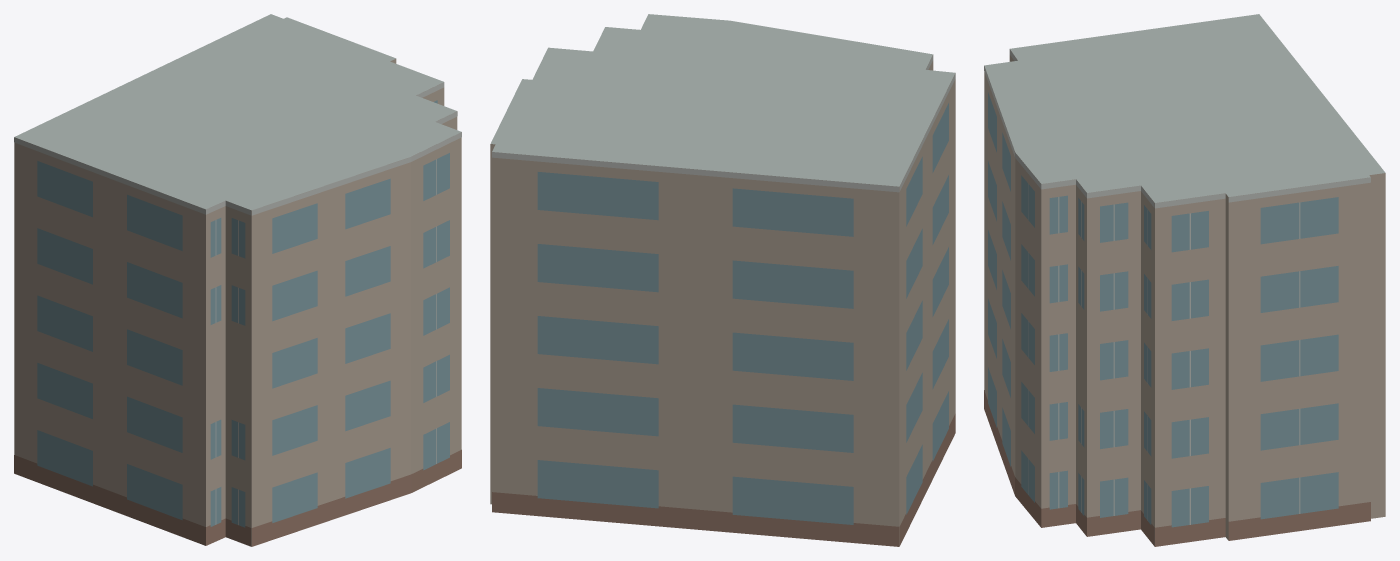
The model's file is survey-upis-32904346.glb.
3 views of the same model, side by side, from view 1: azimuth 30°, elevation 25°; view 2: azimuth 150°, elevation 25°; view 3: azimuth 270°, elevation 25° (orthographic). The views are drawn at different scales.
Visible parts, largest first — view 1: survey-upis-32904346.tmp; view 2: survey-upis-32904346.tmp; view 3: survey-upis-32904346.tmp.
Part boxes in pixels (left/top/right/bottom): survey-upis-32904346.tmp: left=14, top=14, right=461, bottom=546; survey-upis-32904346.tmp: left=490, top=14, right=955, bottom=546; survey-upis-32904346.tmp: left=984, top=14, right=1385, bottom=546.
Bounding box in the file's own units: 18.17 × 15.4 × 16.31.
